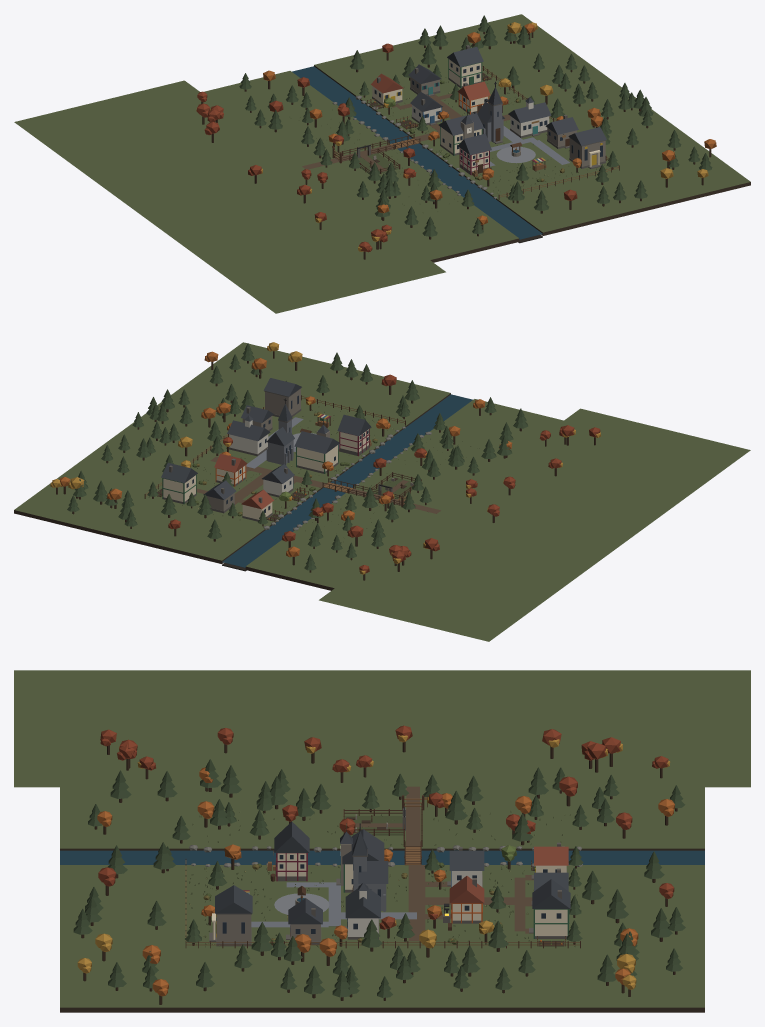
Rendered from town.backup_prekit.glb.
3 views of the same model, one above another, from view 1: azimuth 30°, elevation 25°; view 2: azimuth 150°, elevation 25°; view 3: azimuth 270°, elevation 25° (orthographic). The views are drawn at different scales.
Parts seen in each view (by area): view 1: Ground, GroundWestSkirt, OuterTrees, Biblioteca, Escola, CasaHugo, Prefeitura, Taverna, Igreja, Casa2, Clinica, Casa1 (+4 smaller); view 2: Ground, GroundWestSkirt, OuterTrees, Prefeitura, Escola, CasaHugo, Biblioteca, Igreja, Taverna, Casa2, Casa1, CasaSophia (+3 smaller); view 3: Ground, GroundWestSkirt, OuterTrees, Biblioteca, CasaHugo, Taverna, Casa2, Escola, Igreja, Prefeitura, Clinica, Fence (+7 smaller).
Part boxes in pixels (left/top/right/bottom): Ground: left=204, top=14, right=750, bottom=262; GroundWestSkirt: left=14, top=80, right=445, bottom=313; OuterTrees: left=239, top=15, right=716, bottom=239; Biblioteca: left=568, top=127, right=606, bottom=168; Escola: left=508, top=97, right=551, bottom=138; CasaHugo: left=447, top=45, right=483, bottom=88; Prefeitura: left=438, top=109, right=483, bottom=155; Taverna: left=458, top=133, right=491, bottom=175; Igreja: left=477, top=81, right=504, bottom=143; Casa2: left=457, top=81, right=490, bottom=114; Clinica: left=545, top=115, right=578, bottom=148; Casa1: left=410, top=92, right=442, bottom=125; Ground: left=14, top=342, right=563, bottom=590; GroundWestSkirt: left=319, top=408, right=750, bottom=641; OuterTrees: left=50, top=342, right=528, bottom=572; Prefeitura: left=294, top=418, right=339, bottom=473; Escola: left=227, top=415, right=270, bottom=456; CasaHugo: left=161, top=462, right=197, bottom=504; Biblioteca: left=263, top=378, right=301, bottom=417; Igreja: left=266, top=398, right=294, bottom=465; Taverna: left=337, top=414, right=371, bottom=456; Casa2: left=214, top=453, right=247, bottom=486; Casa1: left=262, top=464, right=294, bottom=497; CasaSophia: left=241, top=489, right=273, bottom=521; Ground: left=60, top=786, right=704, bottom=1012; GroundWestSkirt: left=14, top=670, right=750, bottom=787; OuterTrees: left=73, top=759, right=685, bottom=1004; Biblioteca: left=209, top=885, right=252, bottom=946; CasaHugo: left=529, top=879, right=570, bottom=938; Taverna: left=270, top=821, right=309, bottom=881; Casa2: left=443, top=876, right=484, bottom=923; Escola: left=345, top=882, right=380, bottom=939; Igreja: left=352, top=823, right=388, bottom=911; Prefeitura: left=336, top=823, right=384, bottom=892; Clinica: left=286, top=898, right=322, bottom=944; Fence: left=185, top=859, right=580, bottom=948.
Size of what is drawn, in the model's own units: 104 by 12.8 by 96.
